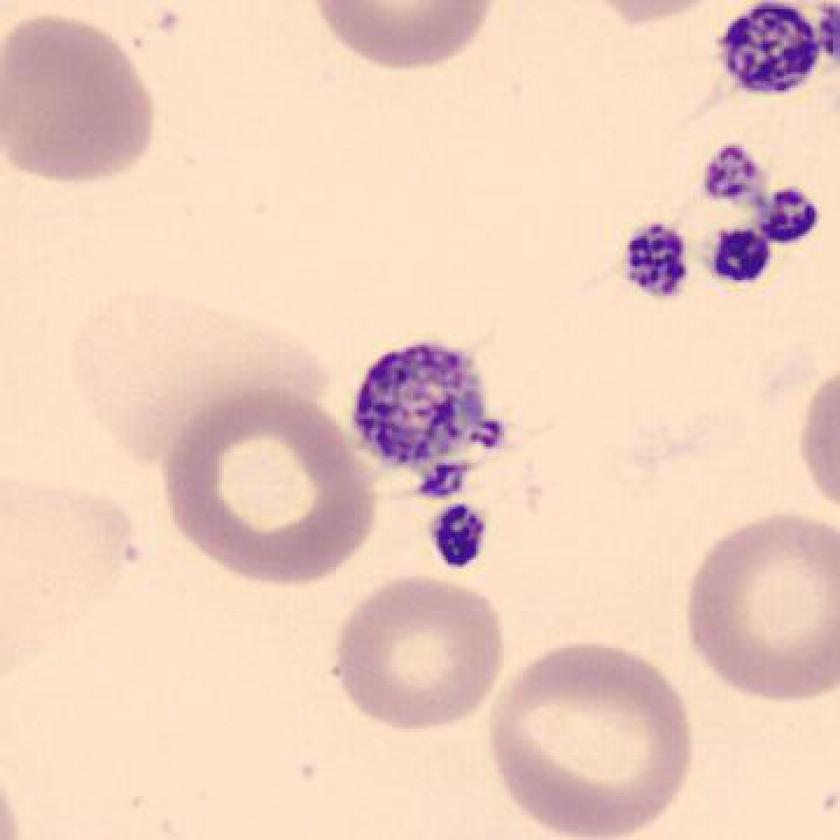platelets: (342, 332, 517, 498), (708, 1, 824, 107), (619, 217, 699, 307), (696, 135, 769, 209), (428, 499, 493, 573), (706, 223, 776, 288), (755, 189, 825, 249)
